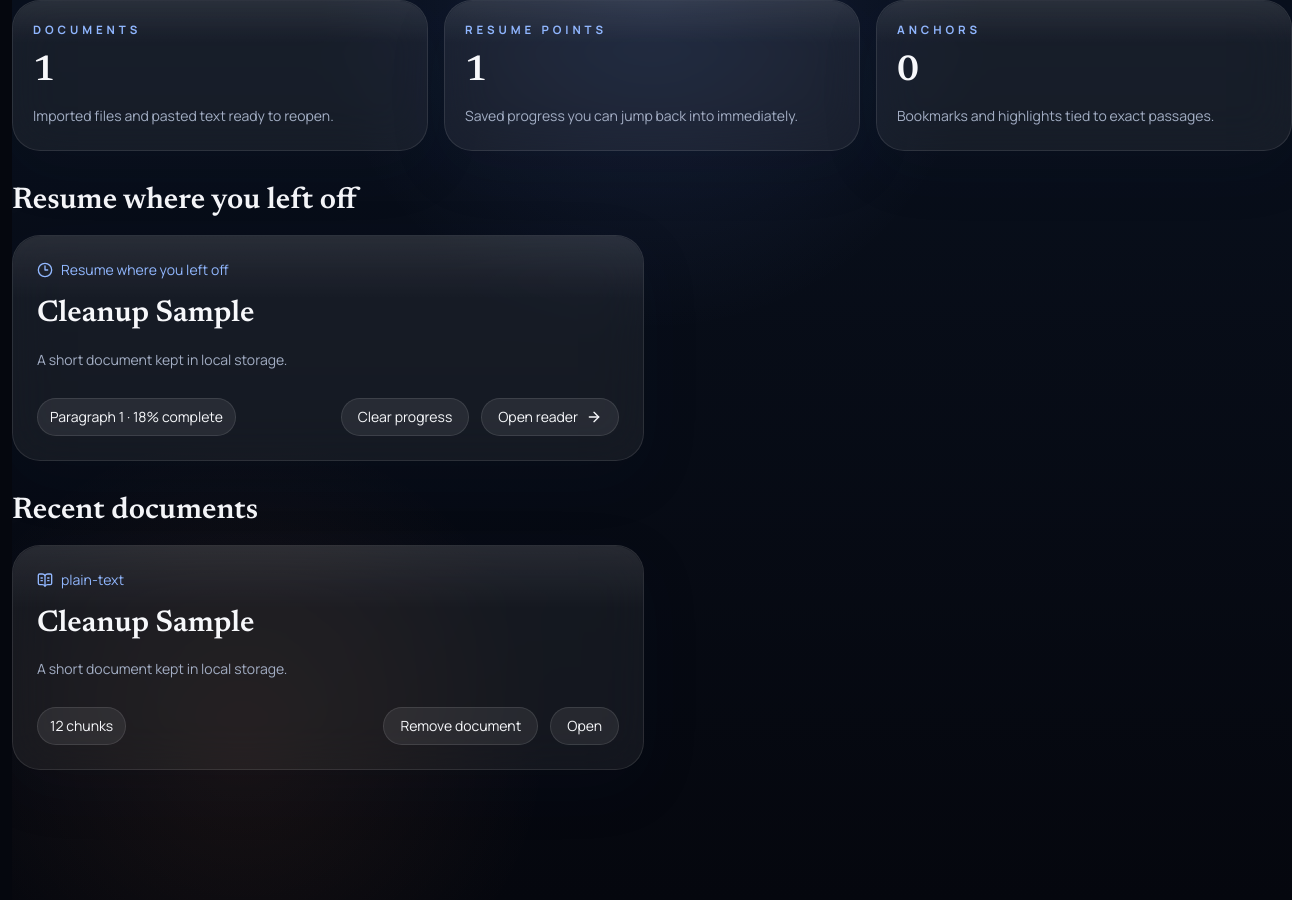
it: LibraryList cleanup actions › clears saved reading progress and refreshes the library state
Click the button with aria-label "clear progress for cleanup sample" at (405, 417), box [341,398,469,436]
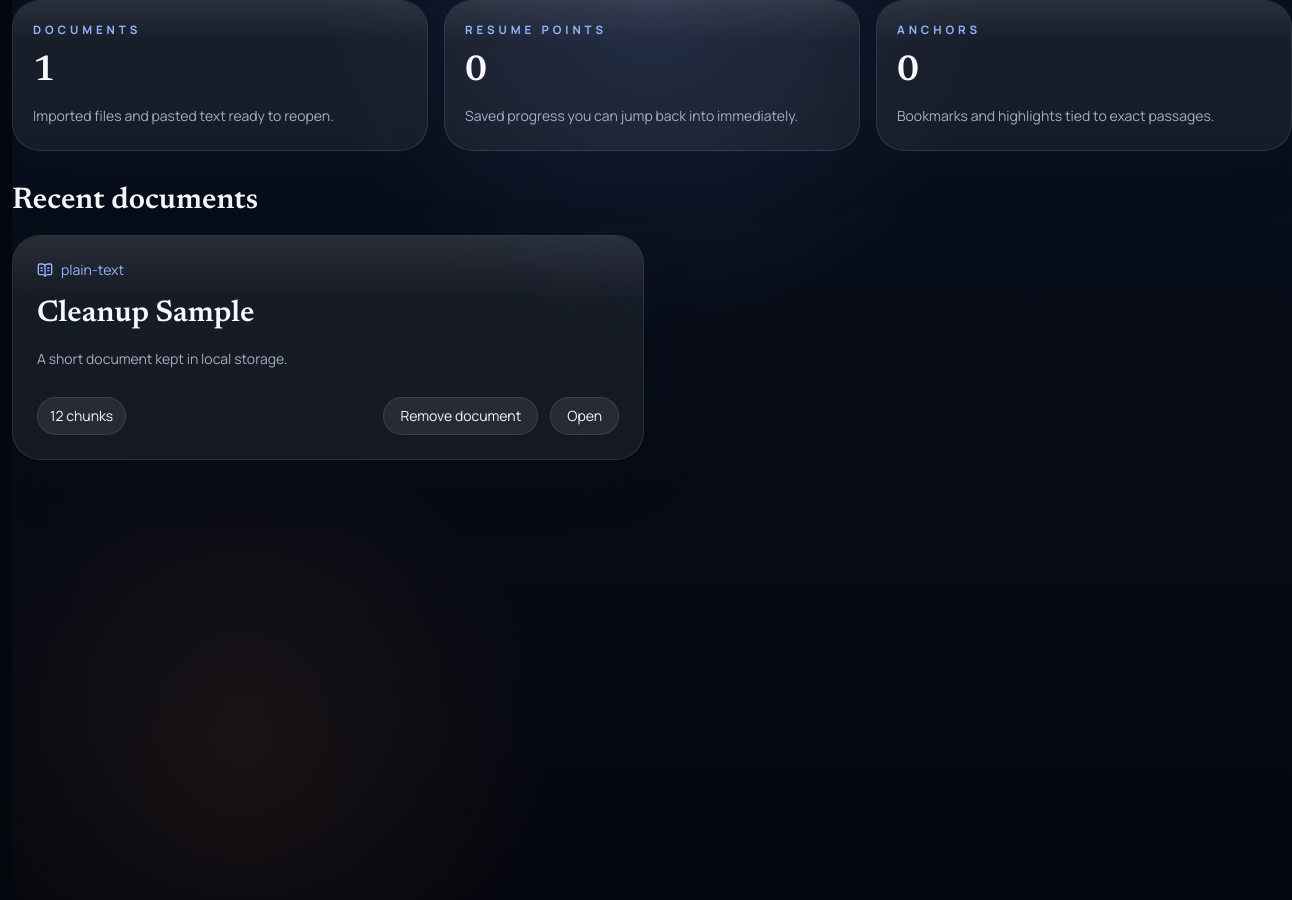
Expected: the heading "Recent documents" is shown, [12,186,258,216]
Result: the heading "Resume where you left off" is gone
